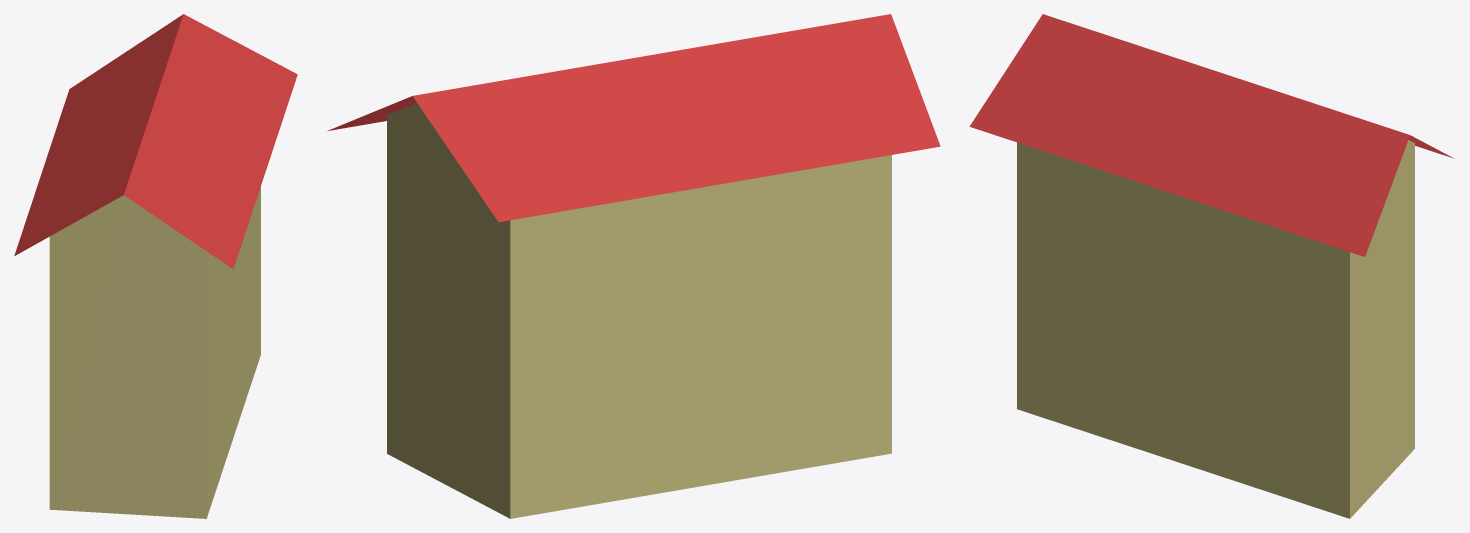
3 views of the same model, side by side, from view 1: azimuth 30°, elevation 25°; view 2: azimuth 150°, elevation 25°; view 3: azimuth 270°, elevation 25° (orthographic). The views are drawn at different scales.
Size of the model in its own units: 11.01 by 10.78 by 8.76.
